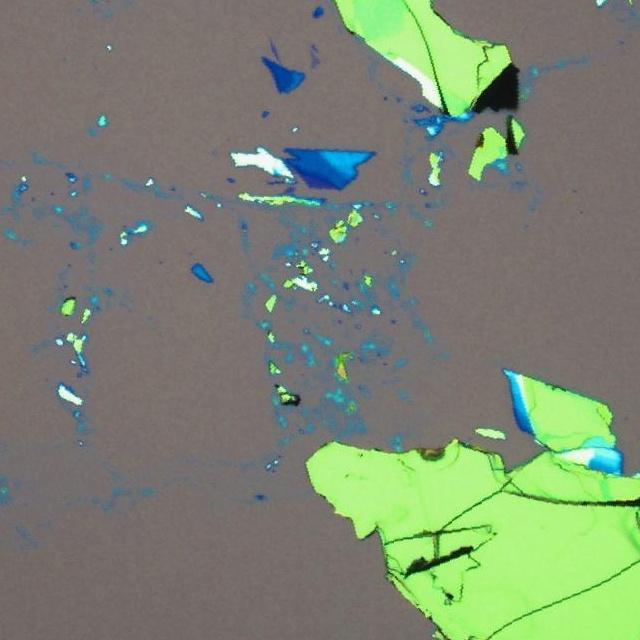monolayer-eWW4: (310, 50, 320, 70)
